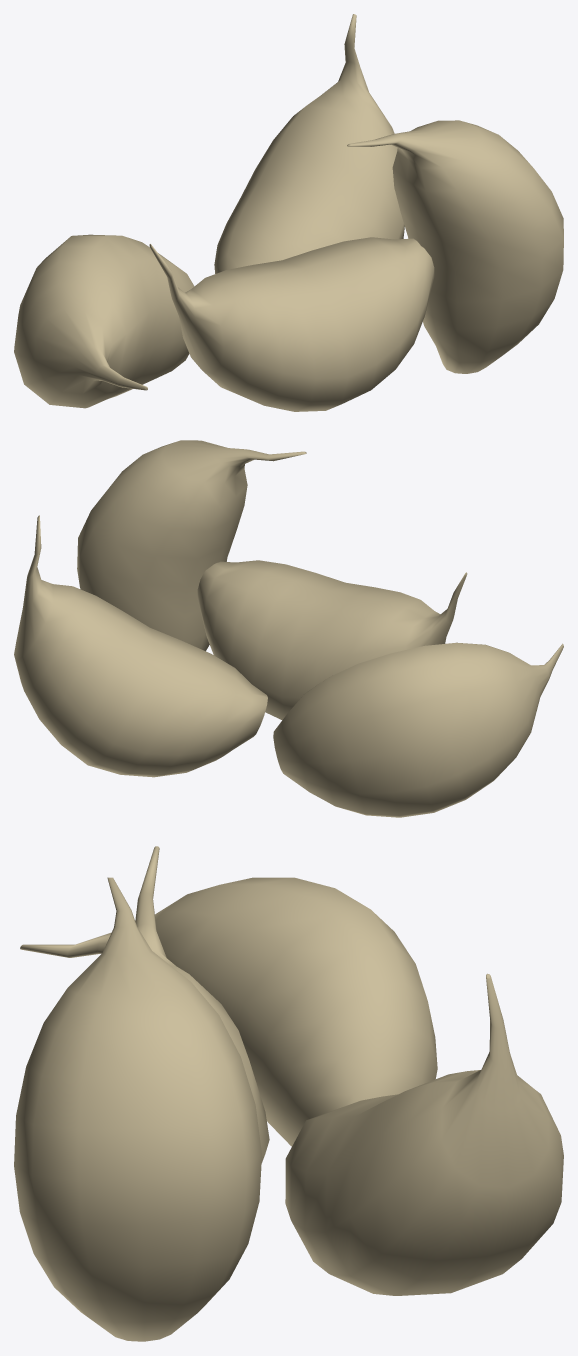
File: Garlic_Pieces.glb
3 views of the same model, one above another, from view 1: azimuth 30°, elevation 25°; view 2: azimuth 150°, elevation 25°; view 3: azimuth 270°, elevation 25° (orthographic). The views are drawn at different scales.
Parts seen in each view (by area): view 1: Garlic_Peieces; view 2: Garlic_Peieces; view 3: Garlic_Peieces.
Boxes of the visible parts, x1,y1,x2,y2 form: Garlic_Peieces: (14,14,563,411); Garlic_Peieces: (14,440,563,817); Garlic_Peieces: (14,846,563,1341).
Bounding box in the file's own units: 5.05 × 2.7 × 3.55.
1 material, 1 textured.
